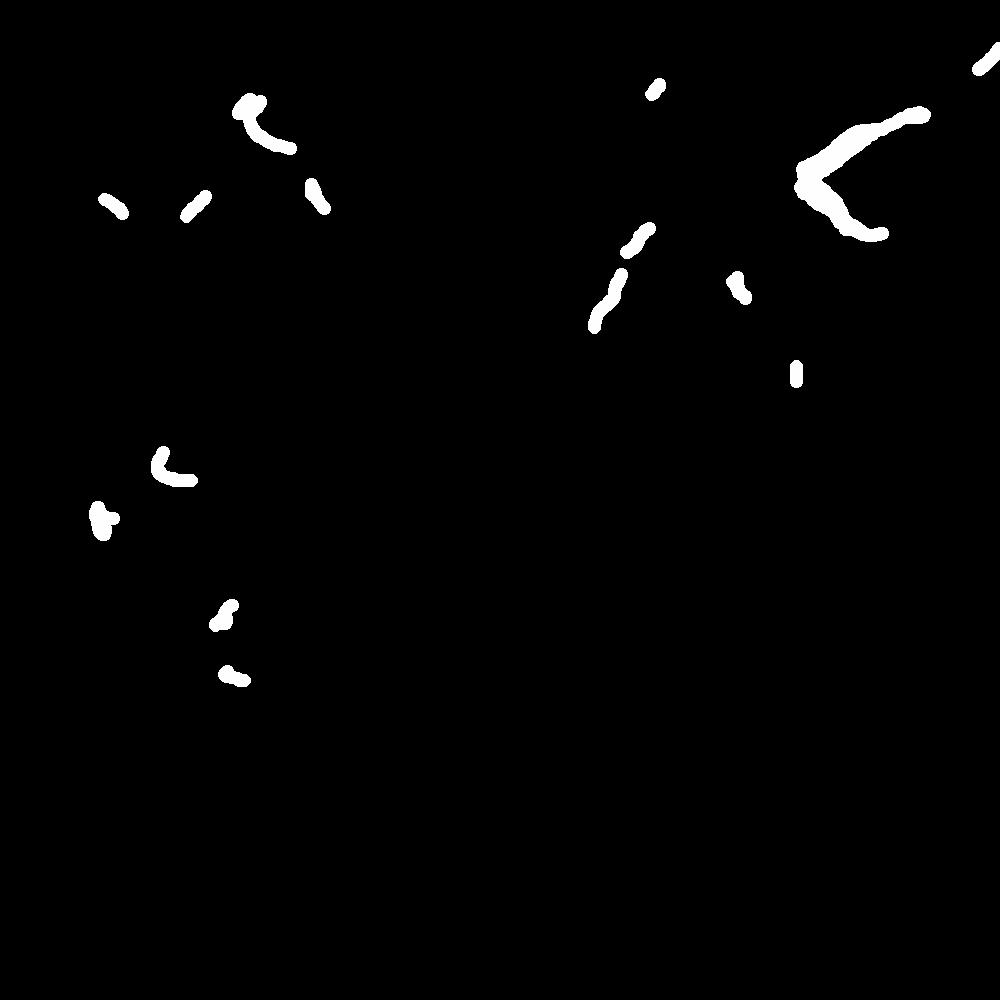illegal: (791, 41, 1000, 247), (234, 93, 333, 218), (592, 227, 647, 336), (209, 603, 245, 683), (146, 451, 215, 485), (106, 199, 199, 221), (720, 276, 758, 311), (88, 498, 116, 537)
